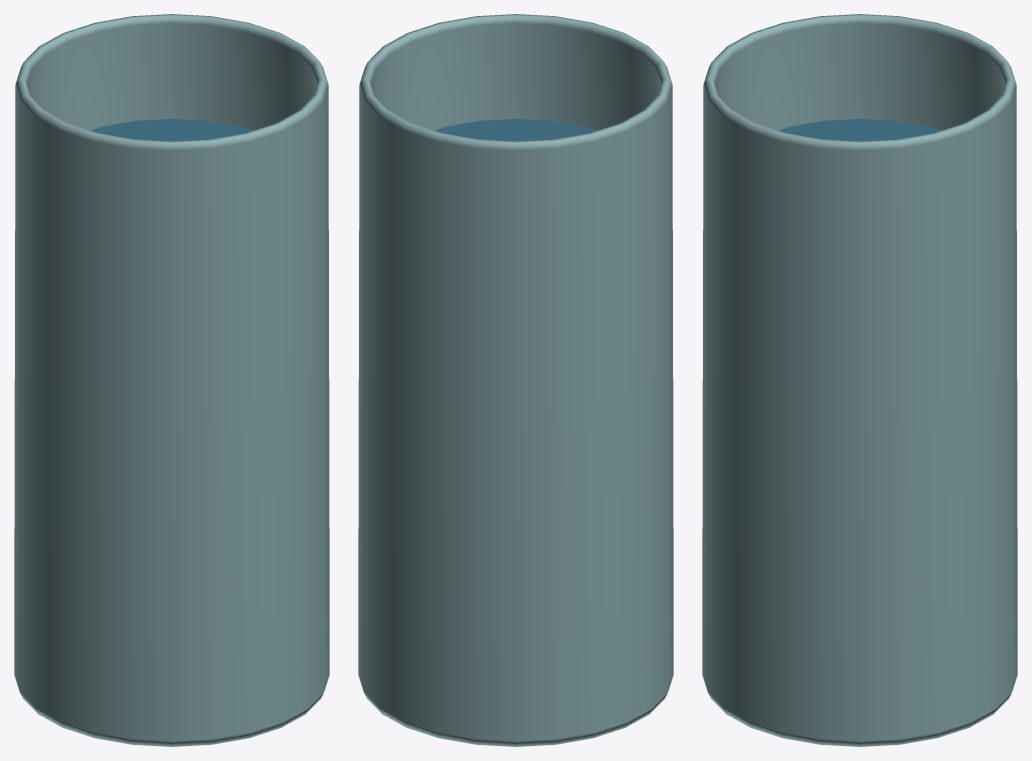
Rendered from S_water_cup.fbx.
3 renders of one model, left to right at view 1: azimuth 30°, elevation 25°; view 2: azimuth 150°, elevation 25°; view 3: azimuth 270°, elevation 25°, orthographic.
Visible parts, largest first — view 1: S_water_cup_empty_01, S_water_01; view 2: S_water_cup_empty_01, S_water_01; view 3: S_water_cup_empty_01, S_water_01.
Boxes of the visible parts, x1,y1,x2,y2 form: S_water_cup_empty_01: (14, 14, 329, 746); S_water_01: (91, 118, 252, 141); S_water_cup_empty_01: (358, 14, 673, 746); S_water_01: (435, 118, 596, 141); S_water_cup_empty_01: (702, 14, 1017, 746); S_water_01: (779, 118, 940, 141).
Size of the model in its own units: 0.0349 by 0.0735 by 0.0349.
